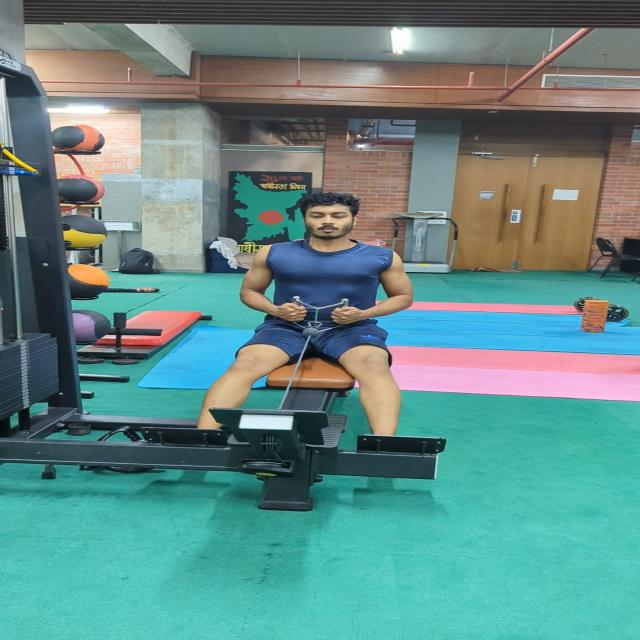Normal_RowingMachineExercise: (182, 190, 416, 443)
